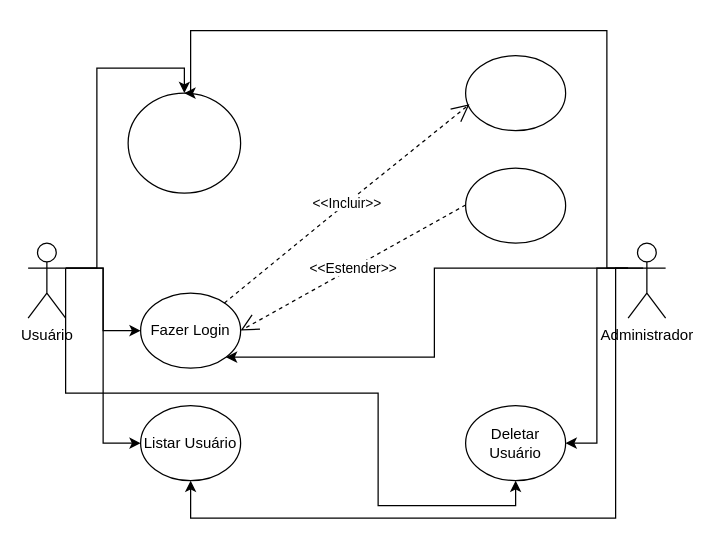
The diagram is 715 pixels wide and 550 high, and some of its shapes have lost their labels. The box of each missing label's shape, as (x1, y1, x2, y2) in pixels:
Criar Cadastro: (127, 92, 241, 193)
Exibir Erro de Login: (464, 167, 566, 243)
Verificar Senha: (464, 54, 566, 131)
